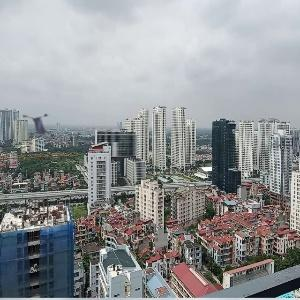drone: (25, 107, 67, 149)
